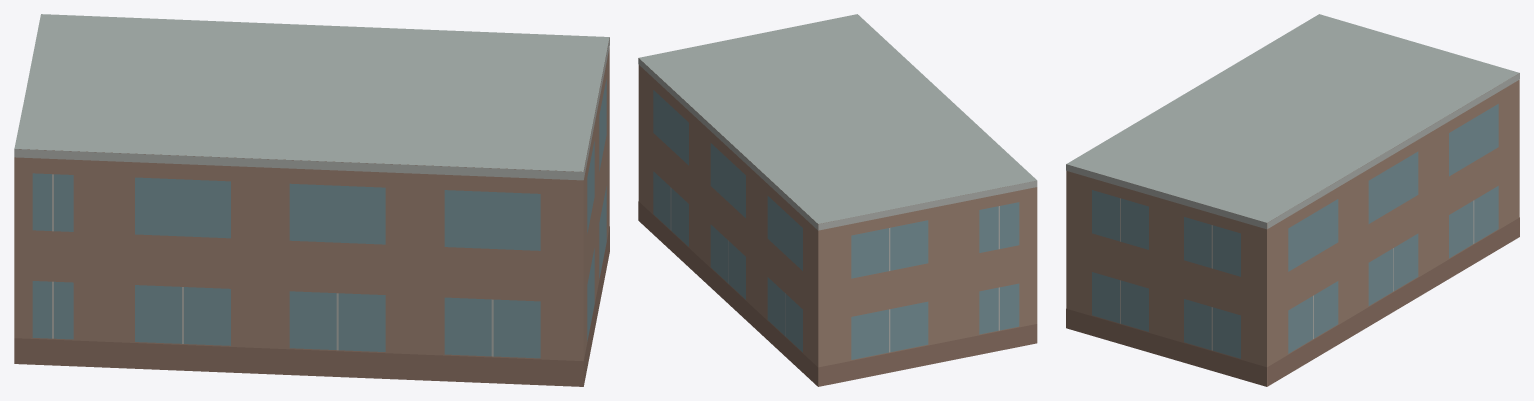
Rendered from survey-upis-32899694.glb.
3 renders of one model, left to right at view 1: azimuth 30°, elevation 25°; view 2: azimuth 150°, elevation 25°; view 3: azimuth 270°, elevation 25°, orthographic. The views are drawn at different scales.
Parts seen in each view (by area): view 1: survey-upis-32899694.tmp; view 2: survey-upis-32899694.tmp; view 3: survey-upis-32899694.tmp.
Part boxes in pixels (x1,y1,x2,y2): survey-upis-32899694.tmp: (14,14,609,386); survey-upis-32899694.tmp: (638,14,1037,386); survey-upis-32899694.tmp: (1066,14,1519,386).
Size of the model in its own units: 16.67 by 6.1 by 15.3.
